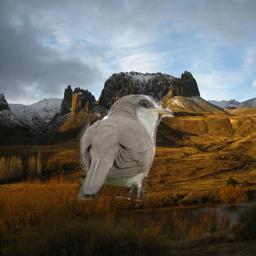Cuckoo: (76, 94, 174, 201)
